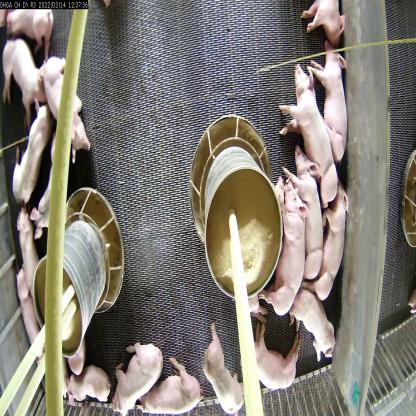Pig: (284, 60, 333, 202), (270, 167, 311, 325), (235, 322, 304, 409), (292, 140, 332, 281), (315, 186, 355, 320), (287, 274, 341, 373), (190, 342, 251, 415), (44, 54, 85, 154), (35, 141, 74, 246), (3, 29, 52, 112), (314, 51, 351, 156), (120, 346, 172, 415), (8, 113, 54, 186), (66, 355, 112, 415), (13, 210, 46, 289), (144, 370, 201, 415)
